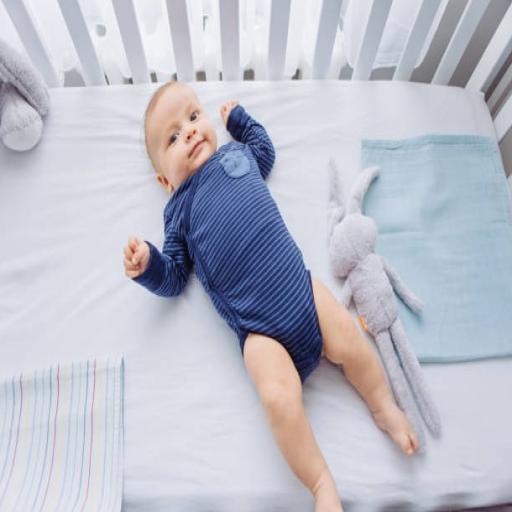baby: (124, 82, 417, 510)
crib: (0, 0, 511, 510)
